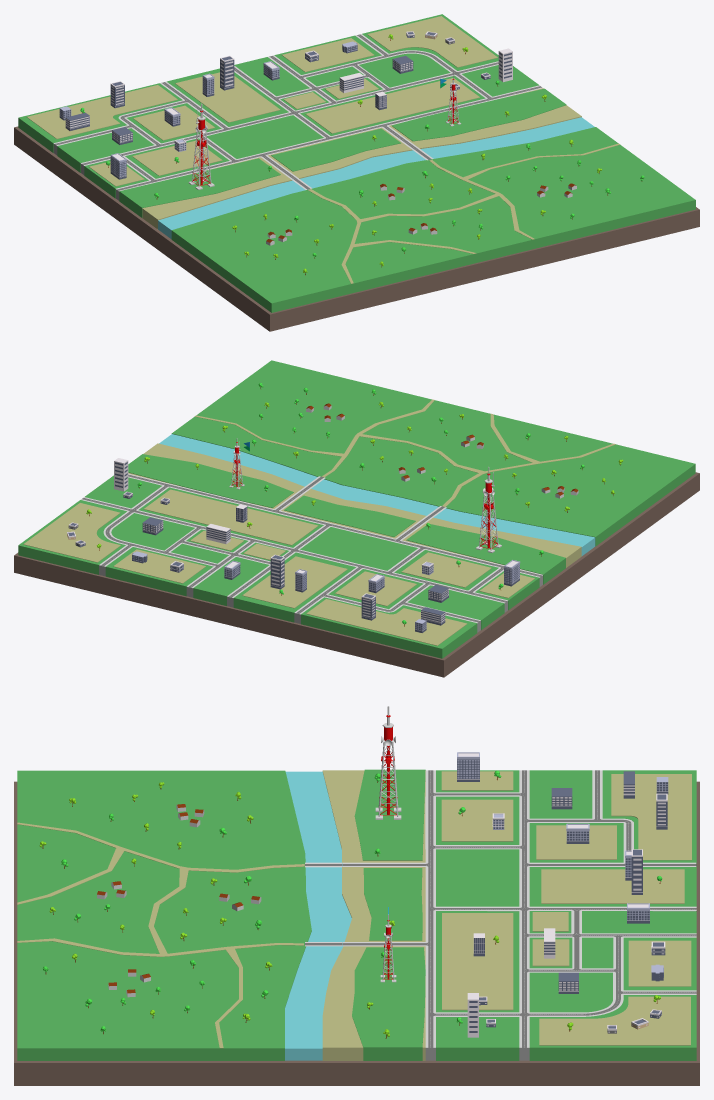
The model's file is map city.fbx.
3 views of the same model, one above another, from view 1: azimuth 30°, elevation 25°; view 2: azimuth 150°, elevation 25°; view 3: azimuth 270°, elevation 25° (orthographic). The views are drawn at different scales.
Visible parts, largest first — view 1: Plane.126, Plane.199, Plane.206, Plane.055, Plane.204, Plane.205, Plane.074, Plane.071, antena; view 2: Plane.126, Plane.206, Plane.199, Plane.055, Plane.204, Plane.205, Plane.074, Plane.071, antena; view 3: Plane.126, Plane.199, Plane.206, Plane.055, Plane.204, Plane.205, Plane.074, Plane.071, antena, Plane.180.
Part boxes in pixels (x1,y1,x2,y2): Plane.126: (171, 127, 695, 312); Plane.199: (27, 16, 497, 186); Plane.206: (18, 14, 538, 198); Plane.055: (14, 126, 699, 331); Plane.204: (119, 88, 566, 217); Plane.205: (158, 117, 594, 238); Plane.074: (142, 88, 581, 229); Plane.071: (308, 143, 619, 283); antena: (188, 103, 214, 189); Plane.126: (171, 360, 695, 546); Plane.206: (18, 475, 539, 658); Plane.199: (23, 489, 534, 645); Plane.055: (14, 472, 699, 677); Plane.204: (128, 454, 565, 584); Plane.205: (159, 434, 595, 555); Plane.074: (128, 443, 581, 570); Plane.071: (195, 399, 615, 506); antena: (475, 467, 501, 552); Plane.126: (17, 770, 311, 1060); Plane.199: (441, 771, 691, 1045); Plane.206: (436, 770, 696, 1060); Plane.055: (14, 781, 699, 1085); Plane.204: (352, 769, 425, 1060); Plane.205: (285, 771, 351, 1060); Plane.074: (322, 770, 425, 1060); Plane.071: (17, 822, 304, 1048); antena: (375, 706, 401, 819); Plane.180: (425, 946, 435, 1012).
Bounding box in the file's own units: 241 × 57.79 × 248.
